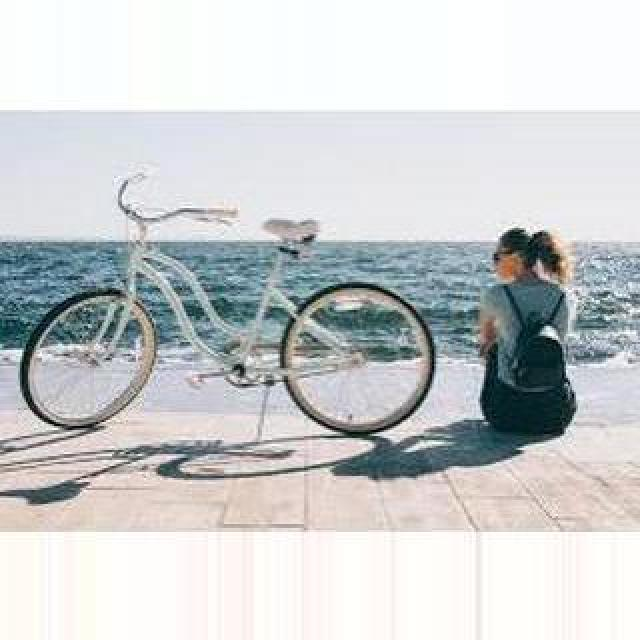MC-Bike: (476, 226, 574, 438)
Person: (21, 171, 441, 457)
